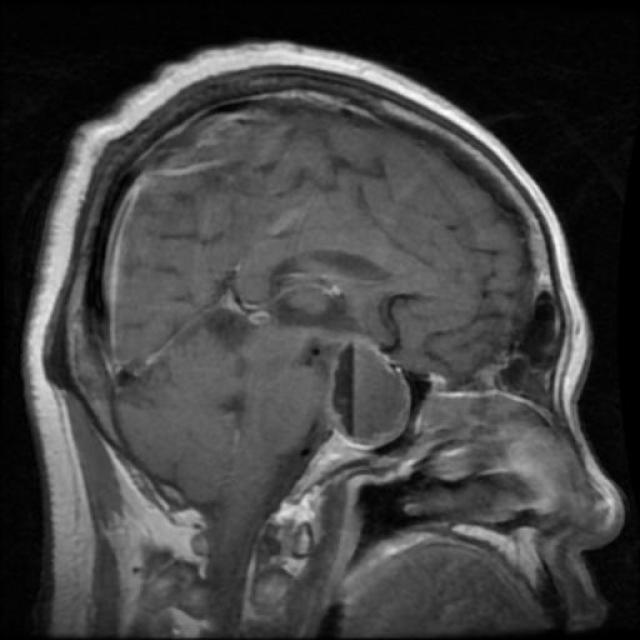pituitary: (267, 333, 418, 524)
